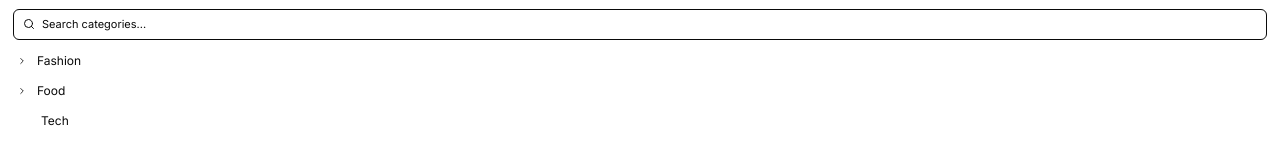
Test case: NestedMultiselectFilter > search › matching child auto-expands parent
This screenshot has width=1280, height=160.
Type "shoe" into the field with placeholder "Search categories..." at (640, 24), box [13, 9, 1267, 40]
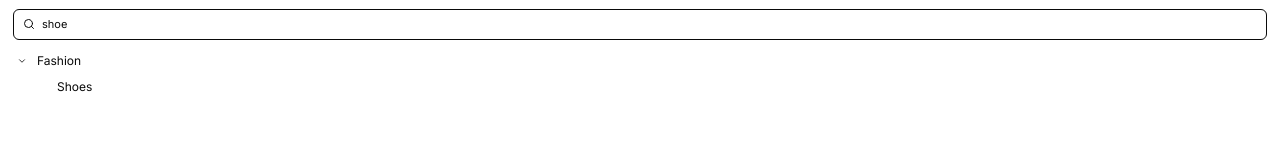
Now the text "Shoes" is shown, box [57, 78, 92, 94]
